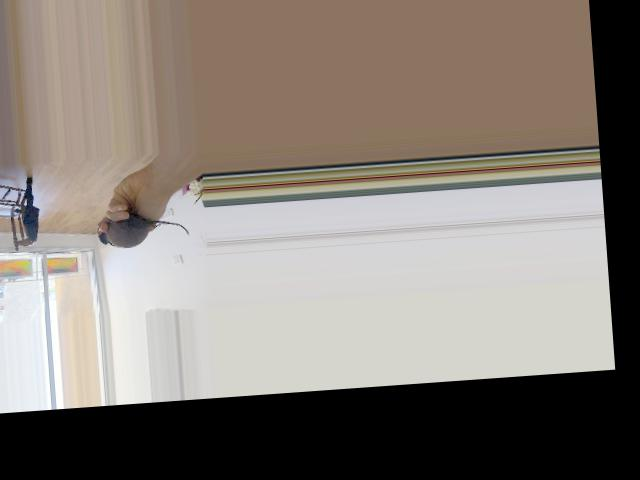beet: (95, 212, 188, 249)
